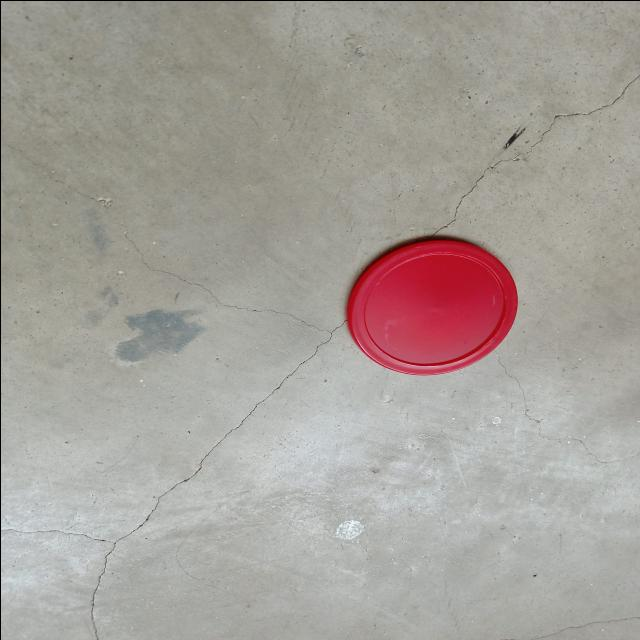chip: (345, 240, 520, 376)
